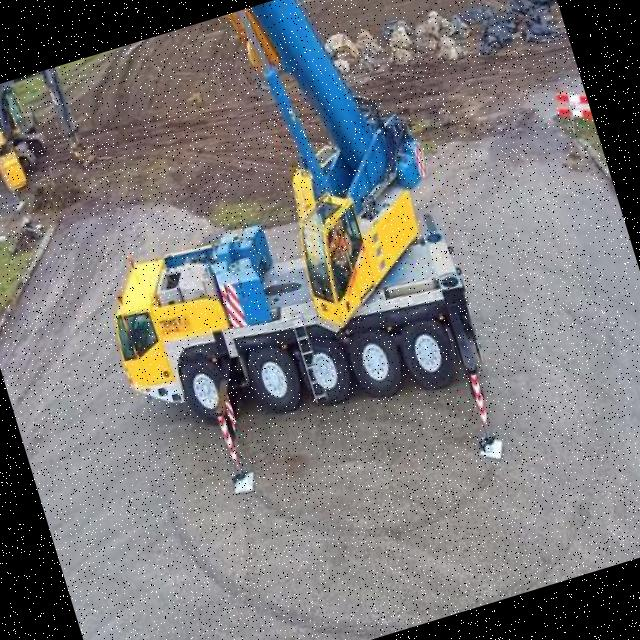Excavator: (0, 64, 93, 197)
Mobile Crane: (33, 0, 514, 558)
